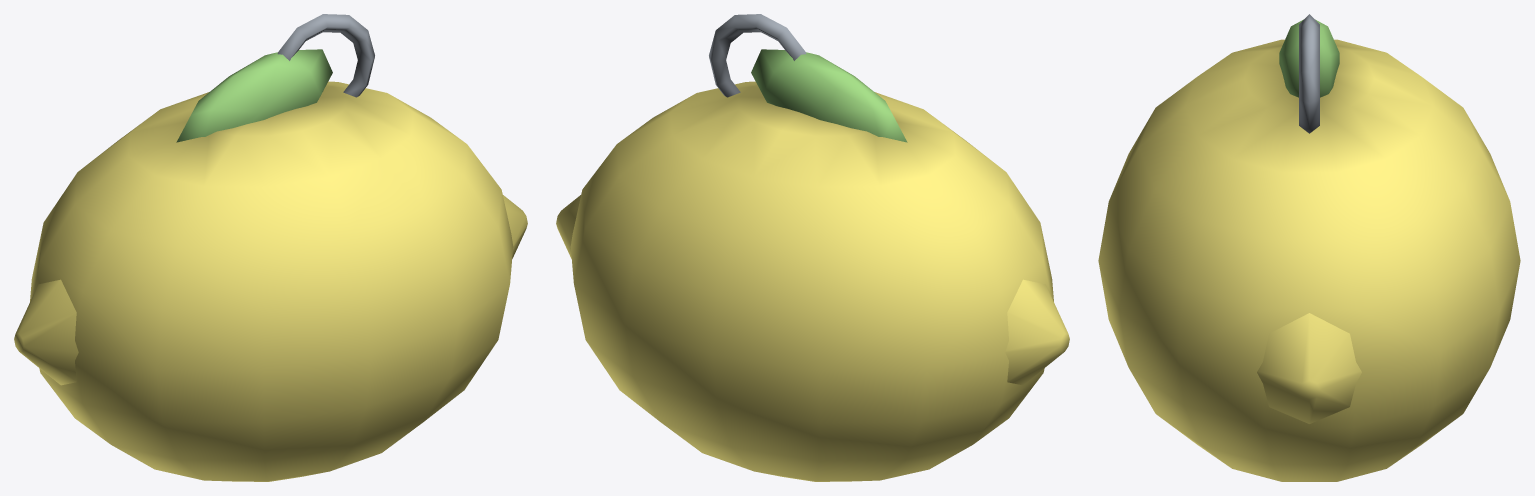
Rendered from LemonGrenade.fbx.
3 views of the same model, side by side, from view 1: azimuth 30°, elevation 25°; view 2: azimuth 150°, elevation 25°; view 3: azimuth 270°, elevation 25° (orthographic). The views are drawn at different scales.
Parts seen in each view (by area): view 1: LemonGrenade; view 2: LemonGrenade; view 3: LemonGrenade.
Boxes of the visible parts, <box> form: LemonGrenade: <box>14,14,527,481</box>; LemonGrenade: <box>556,14,1069,481</box>; LemonGrenade: <box>1098,14,1520,481</box>.
Bounding box in the file's own units: 0.522 × 0.432 × 0.36.
